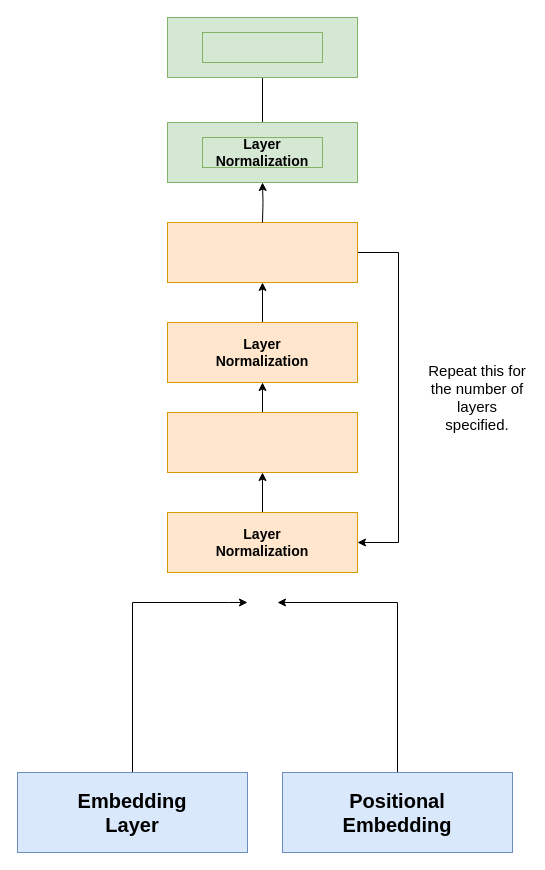
This 545x870 diagram has some shape labels left out. Here are the shapes that lost their labels. From the top down, the box of each, then its label:
(202, 32, 322, 62): Linear Layer (to token size)
(166, 222, 358, 282): MLP
(166, 412, 358, 472): MultiHeadAttention
